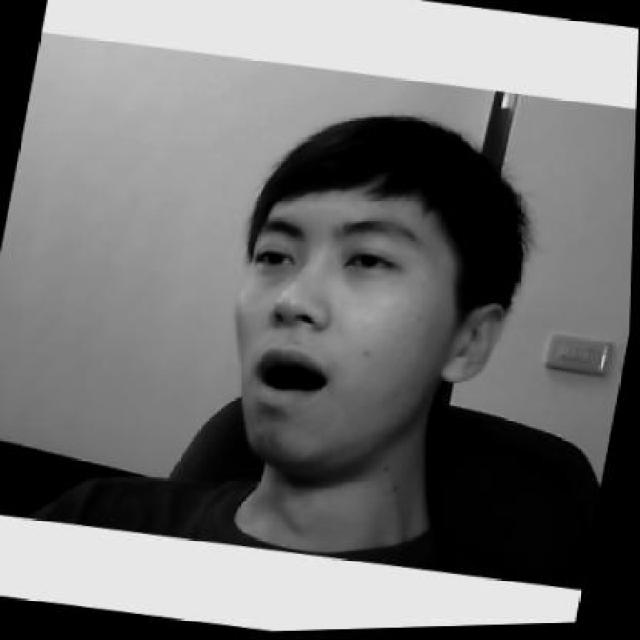inattentif: (207, 93, 538, 496)
